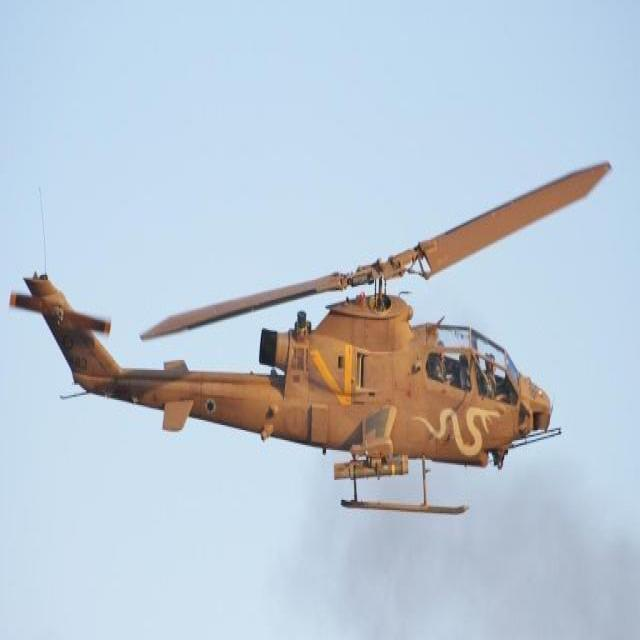MIL_HELO: (10, 152, 615, 536)
